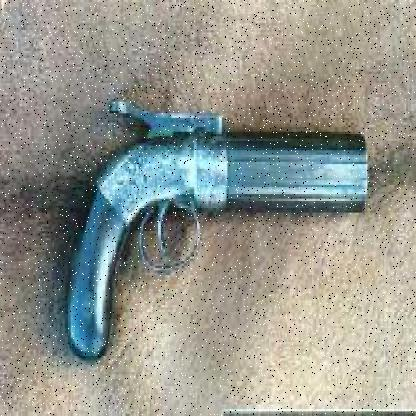pistol: (64, 92, 372, 351)
